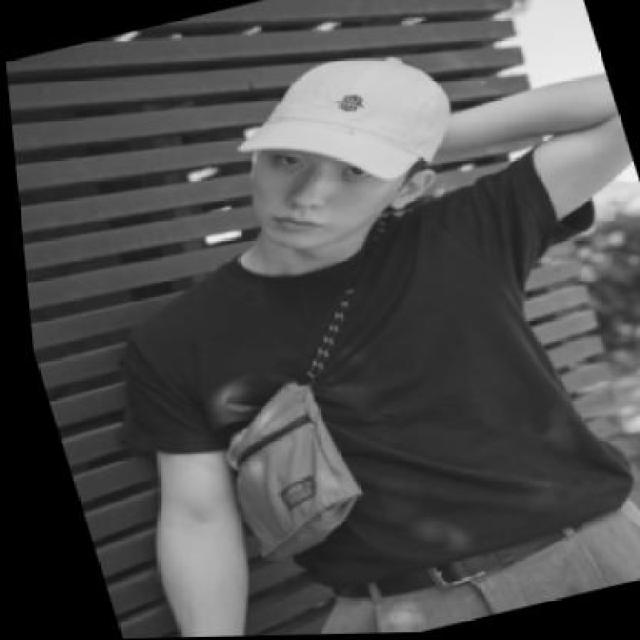hat: (234, 57, 450, 180)
